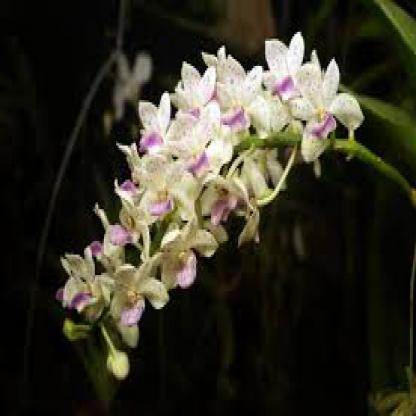ANGGREK: (37, 40, 369, 388)
